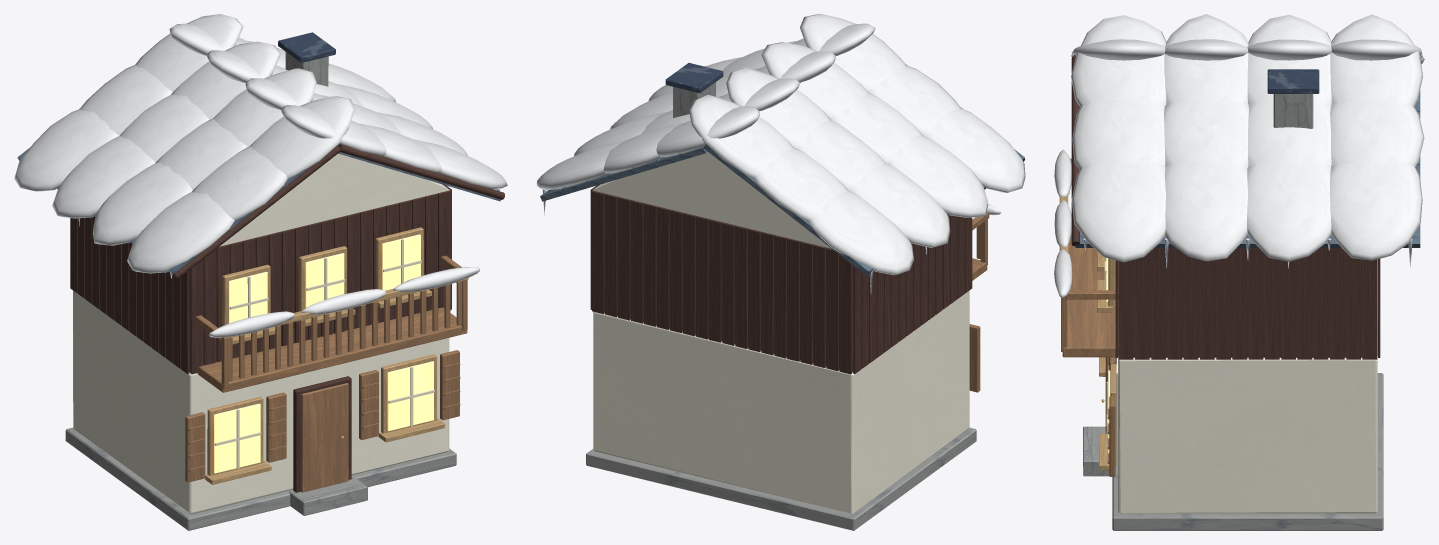
File: house_2.glb
The picture shows the model from 3 angles, left to right: view 1: azimuth 30°, elevation 25°; view 2: azimuth 150°, elevation 25°; view 3: azimuth 270°, elevation 25°; orthographic projection. The views are drawn at different scales.
Visible parts, largest first — view 1: house_2; view 2: house_2; view 3: house_2.
Boxes of the visible parts, <box> form: house_2: <box>14,14,507,530</box>; house_2: <box>536,14,1025,530</box>; house_2: <box>1054,14,1424,530</box>.
Bounding box in the file's own units: 7.28 × 7.29 × 5.71.
Materials: 3 (3 with a texture image).
